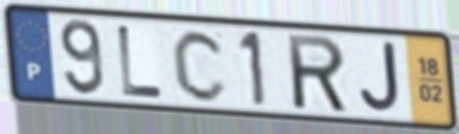1: (237, 28, 269, 109)
9: (57, 17, 106, 98)
C: (170, 26, 230, 104)
J: (357, 40, 402, 116)
L: (115, 22, 166, 101)
R: (284, 31, 351, 115)
